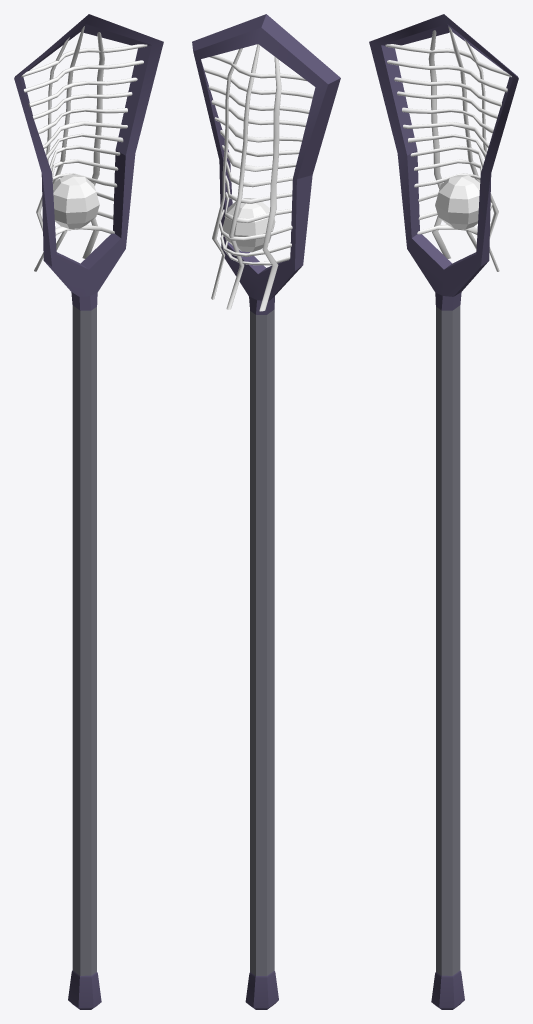
File: presentLacrosseStick.gltf
3 renders of one model, left to right at view 1: azimuth 30°, elevation 25°; view 2: azimuth 150°, elevation 25°; view 3: azimuth 330°, elevation 25°, orthographic.
Parts seen in each view (by area): view 1: presentLacrosseStick; view 2: presentLacrosseStick; view 3: presentLacrosseStick.
Part boxes in pixels (left/top/right/bottom): presentLacrosseStick: left=14, top=14, right=163, bottom=1009; presentLacrosseStick: left=192, top=14, right=340, bottom=1009; presentLacrosseStick: left=369, top=14, right=518, bottom=1009.
Bounding box in the file's own units: 1.72 × 10.88 × 0.8642.
